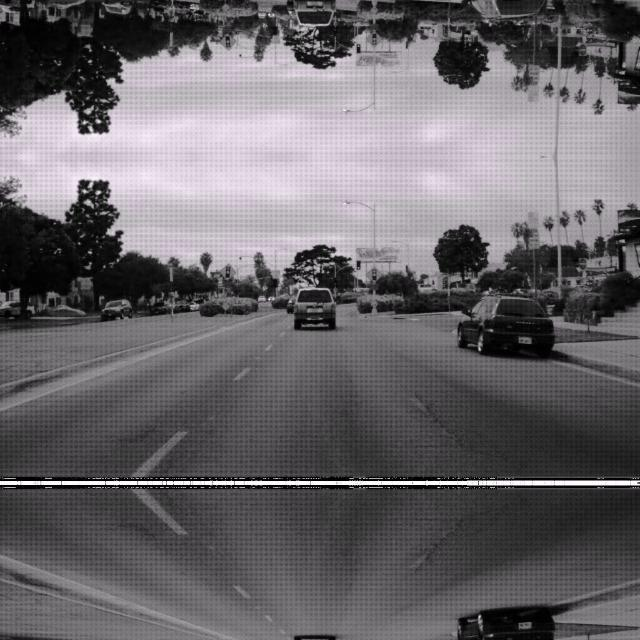signalAhead: (217, 260, 237, 280), (217, 32, 237, 52), (364, 264, 384, 282), (364, 30, 384, 48)
